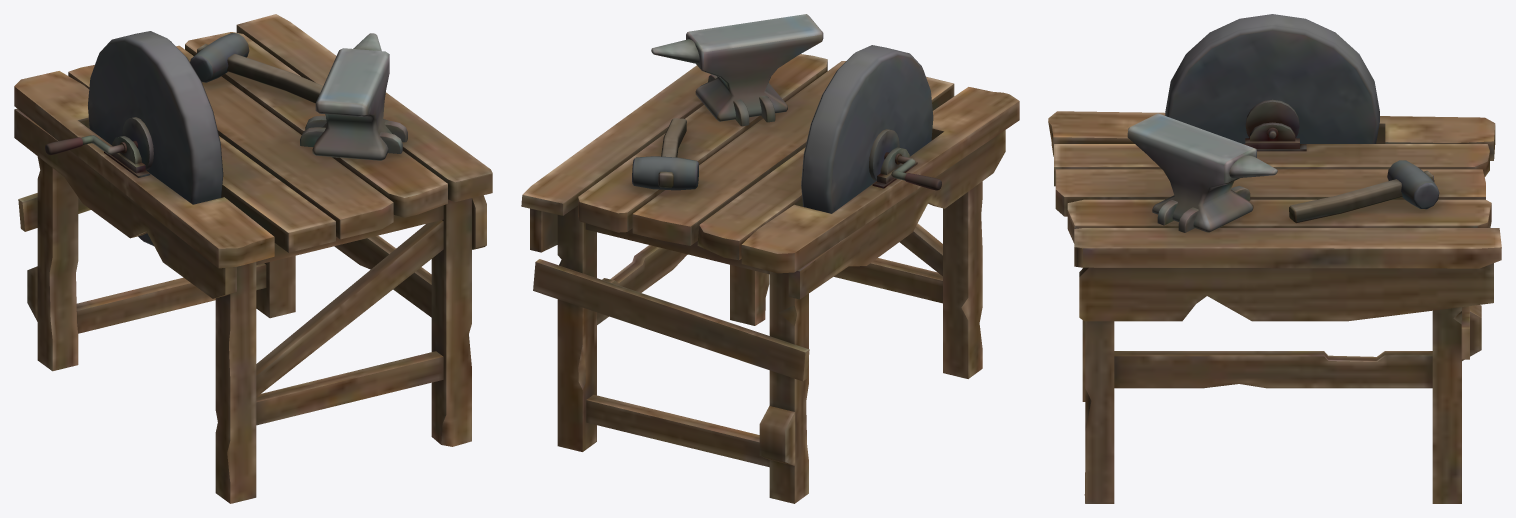
The model's file is SM_RepairTable_8283bb.glb.
3 views of the same model, side by side, from view 1: azimuth 30°, elevation 25°; view 2: azimuth 150°, elevation 25°; view 3: azimuth 270°, elevation 25° (orthographic). The views are drawn at different scales.
Size of the model in its own units: 1.26 by 1.39 by 1.51.
Materials: 1 (1 with a texture image).
